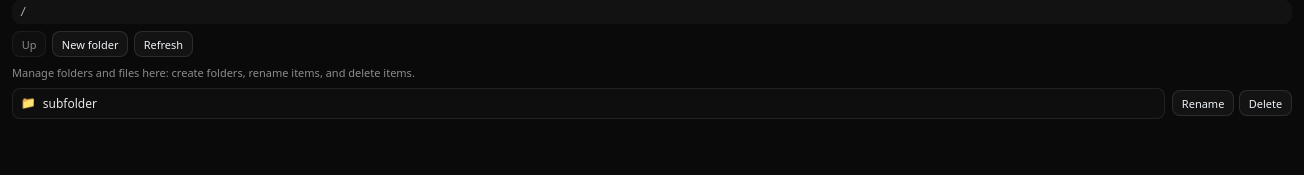
WorkspaceFilePanel - Error Clearing on Success › should clear error when navigating into folder succeeds after previous error
Expected: the text "subfolder" is shown, [43, 95, 97, 112]
Click the button "New folder" at (90, 44), box [52, 31, 128, 57]
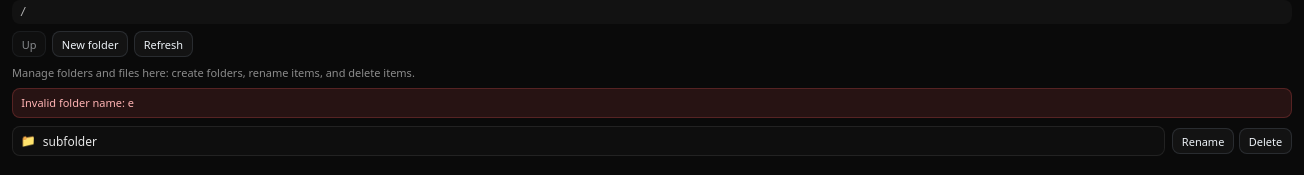
Now the text "Invalid folder name: e" is shown, box [12, 88, 1292, 118]
Click the button "📁 subfolder" at (70, 141), box [12, 126, 1165, 156]
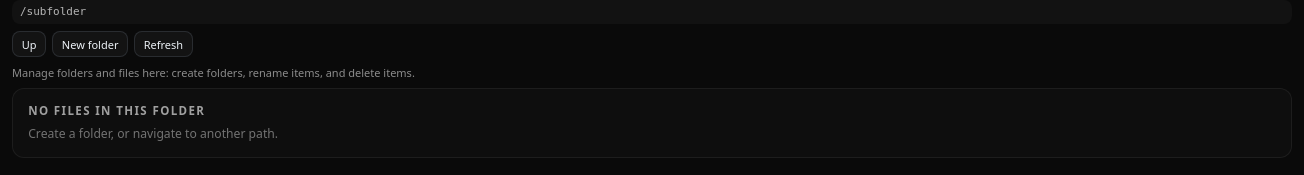
Now the text "Invalid folder name" is gone
